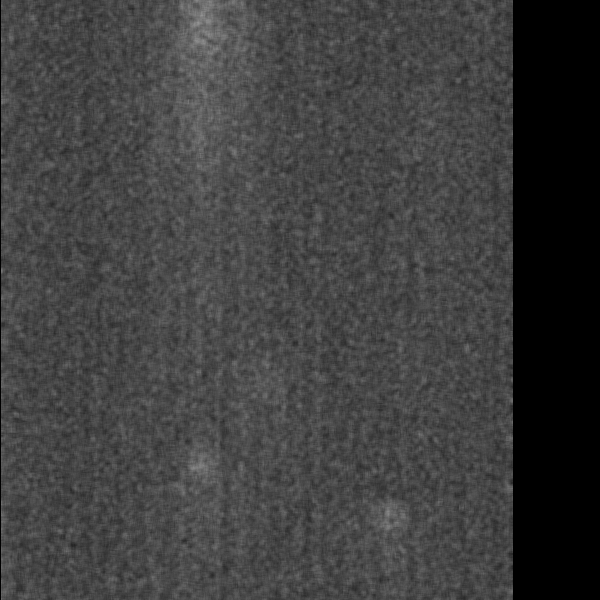spark: (171, 2, 255, 179), (377, 496, 398, 590), (181, 442, 218, 485)
